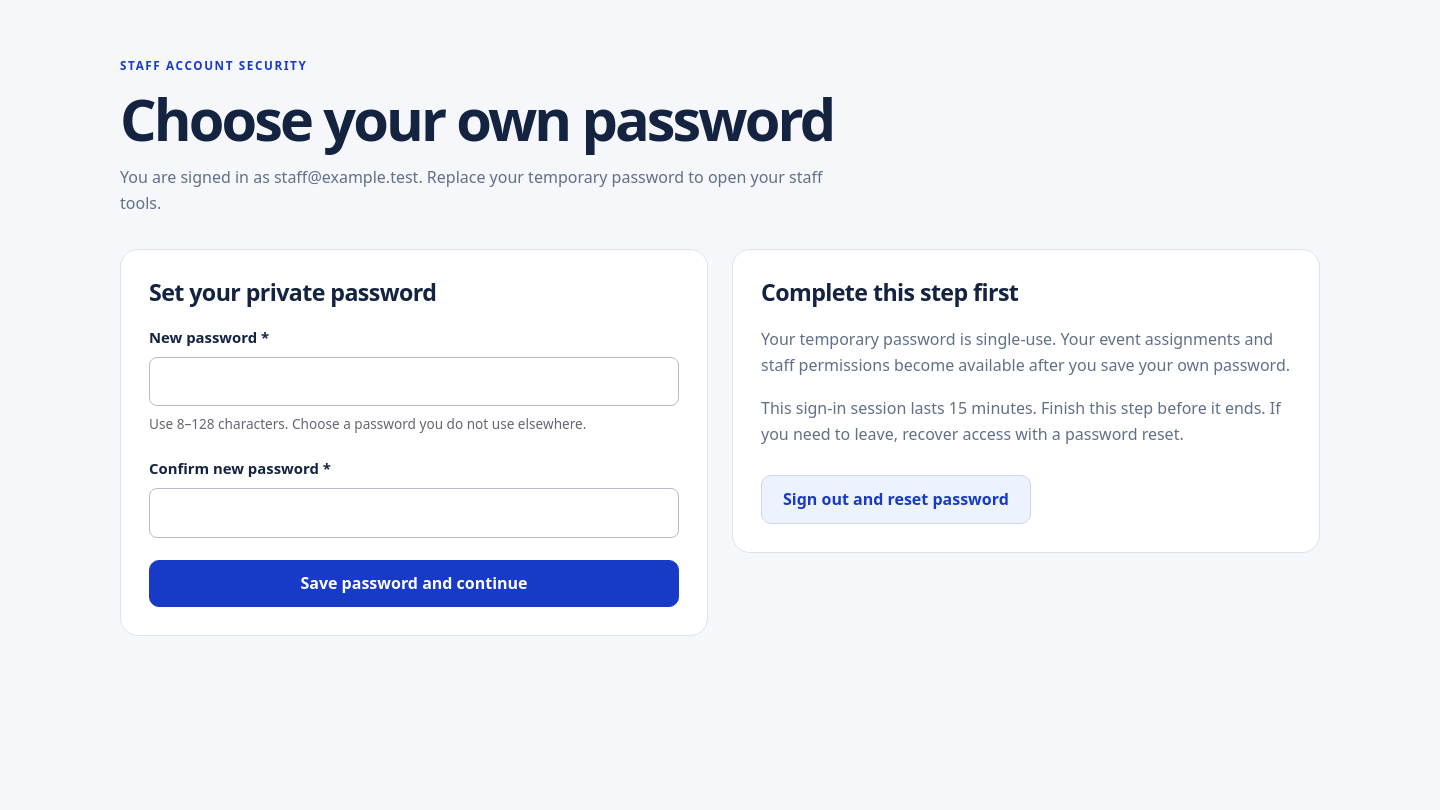
Test: rejects password confirmation mismatch
The image size is (1440, 810).
Type "PrivateStaff!232" into the password field named "newPassword" at (414, 382), box left=149, top=357, right=679, bottom=406
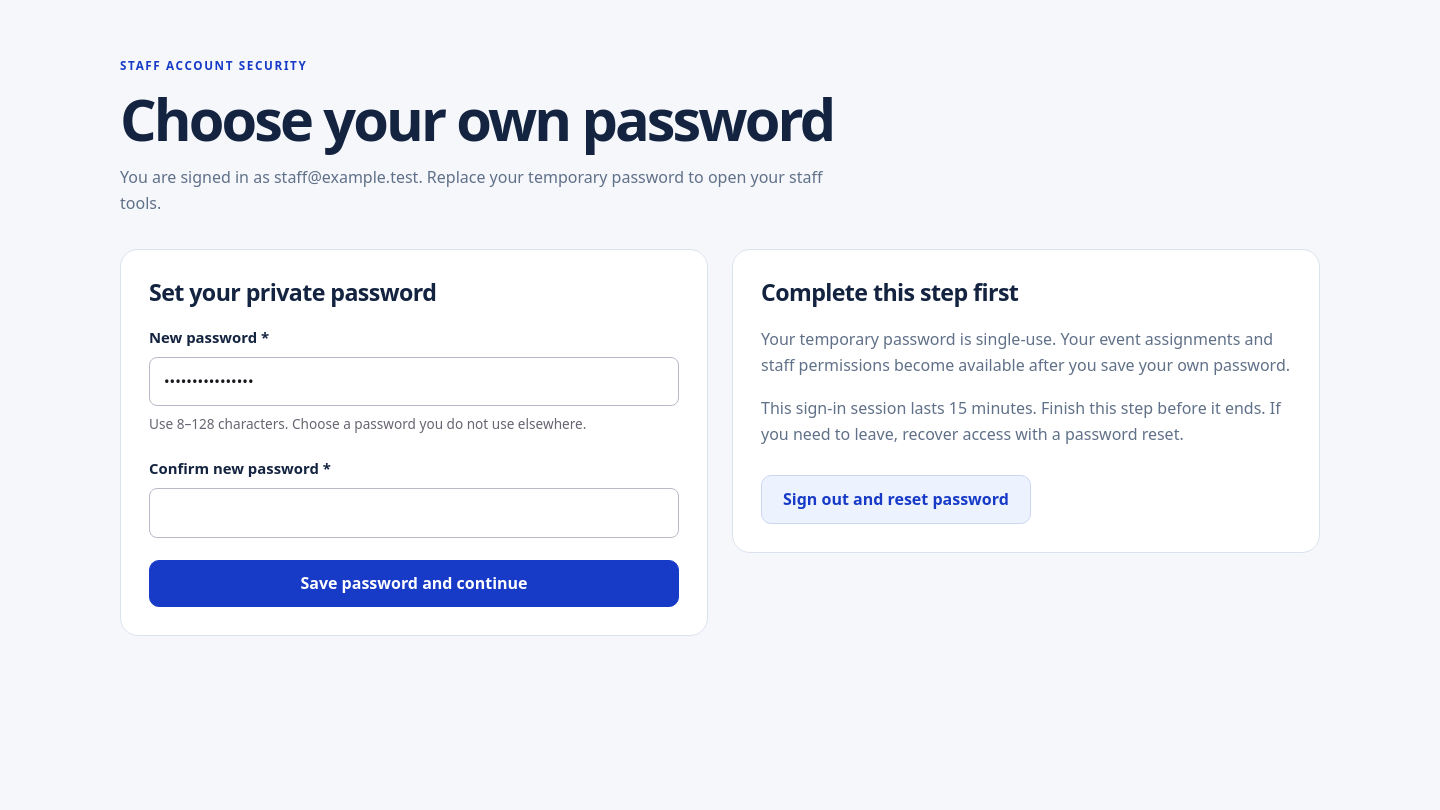
Type "DifferentPassword!232" into the password field labelled "Confirm new password *" at (414, 513), box left=149, top=488, right=679, bottom=538
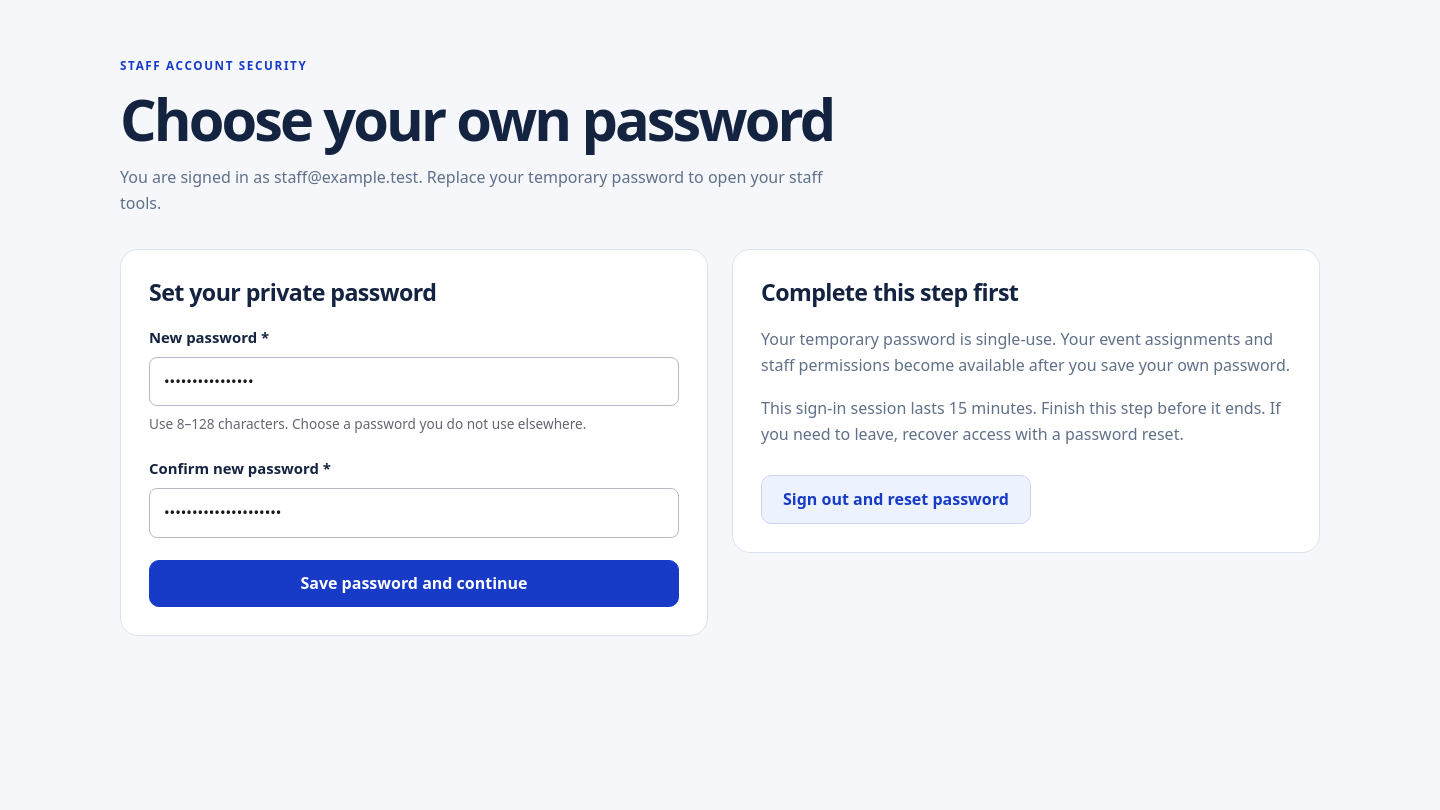
Submit the form, box left=149, top=326, right=679, bottom=607
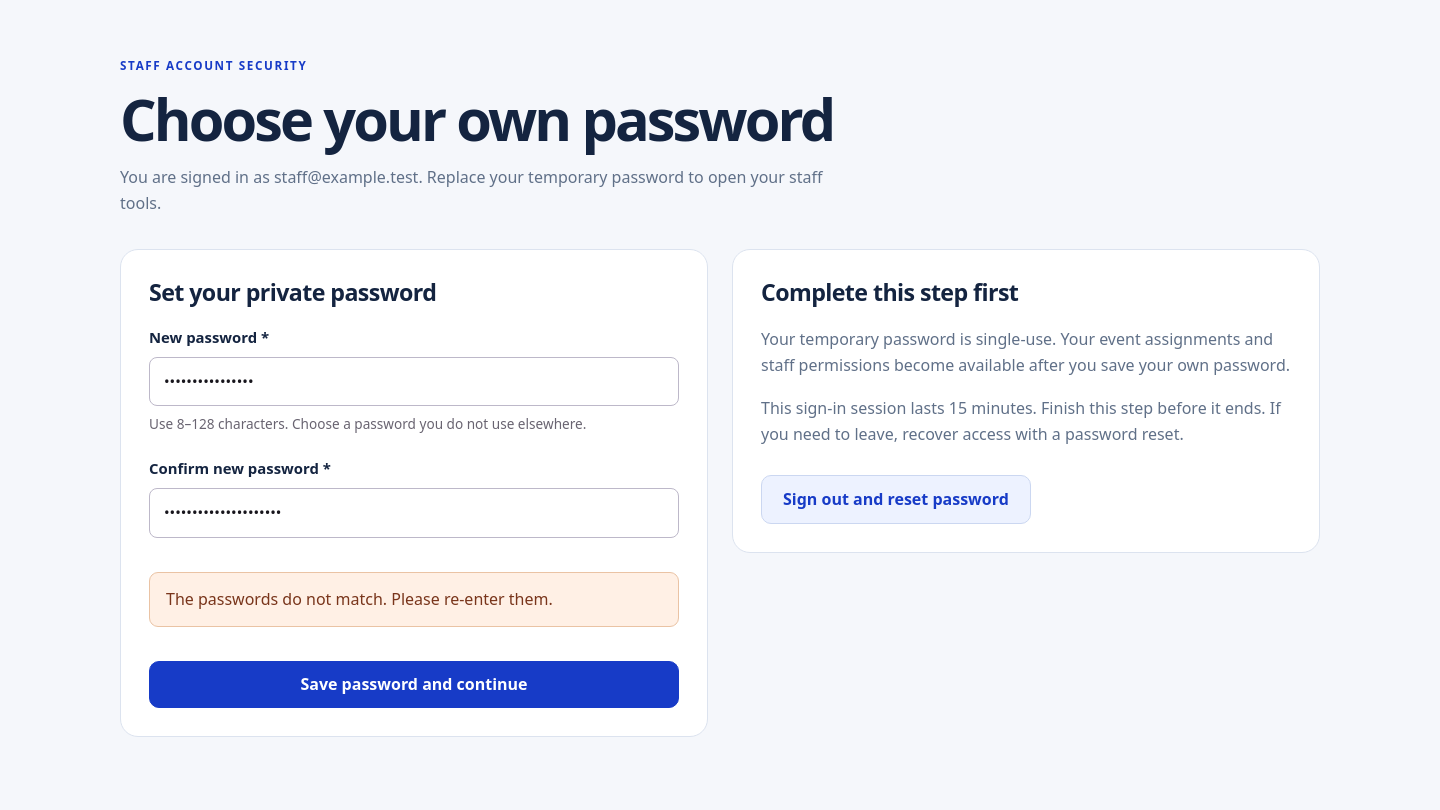
Check: the message "The passwords do not match. Please re-enter them." is shown, box left=149, top=572, right=679, bottom=627
